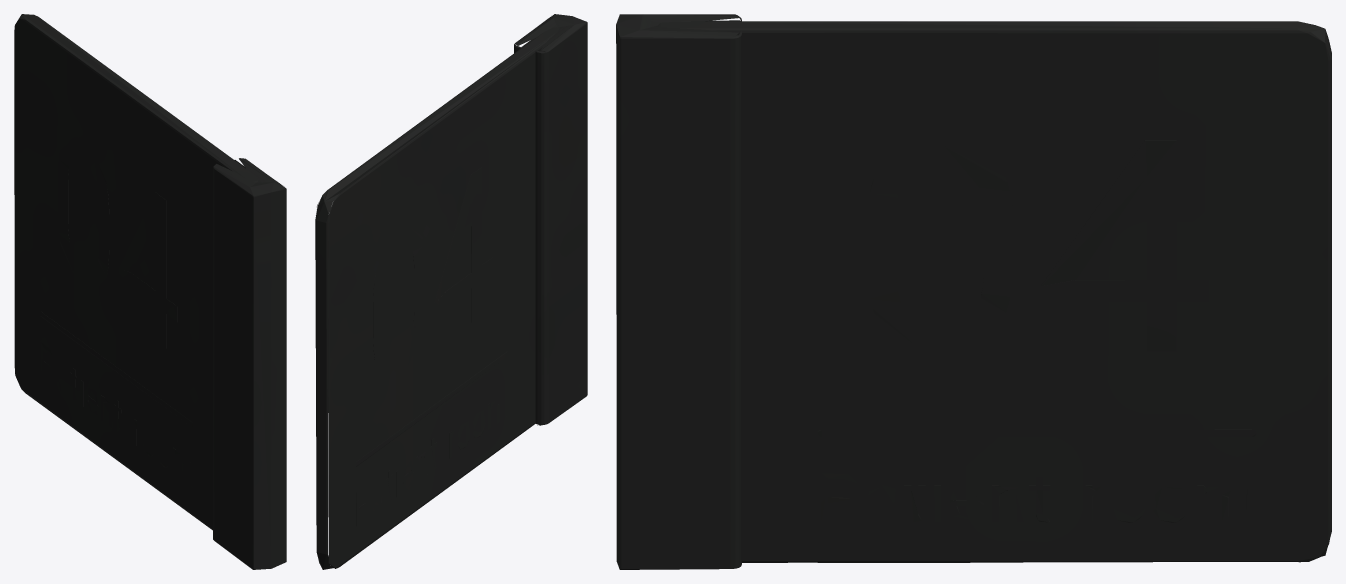
File: sign_hospital_sidewall_a09.glb
3 renders of one model, left to right at view 1: azimuth 30°, elevation 25°; view 2: azimuth 150°, elevation 25°; view 3: azimuth 270°, elevation 25°, orthographic. The views are drawn at different scales.
Visible parts, largest first — view 1: geometry_0; view 2: geometry_0; view 3: geometry_0.
Part boxes in pixels (box(x1,y1,x2,y2)): geometry_0: box(14, 14, 286, 569); geometry_0: box(315, 14, 587, 569); geometry_0: box(616, 14, 1331, 569).
Bounding box in the file's own units: 0.0326 × 0.3489 × 0.42.
Materials: 1 (1 with a texture image).
